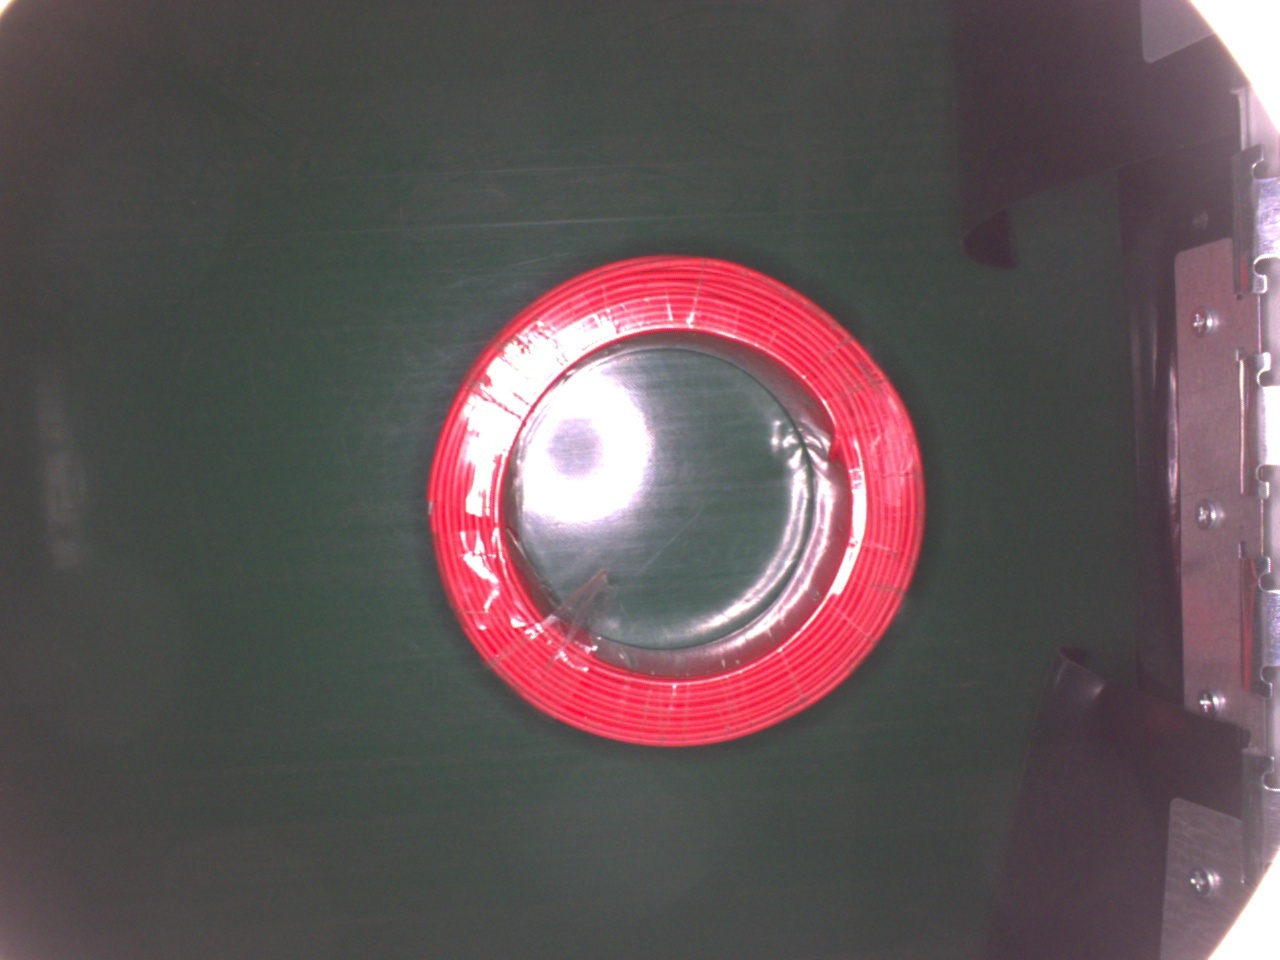red: (408, 246, 938, 754)
